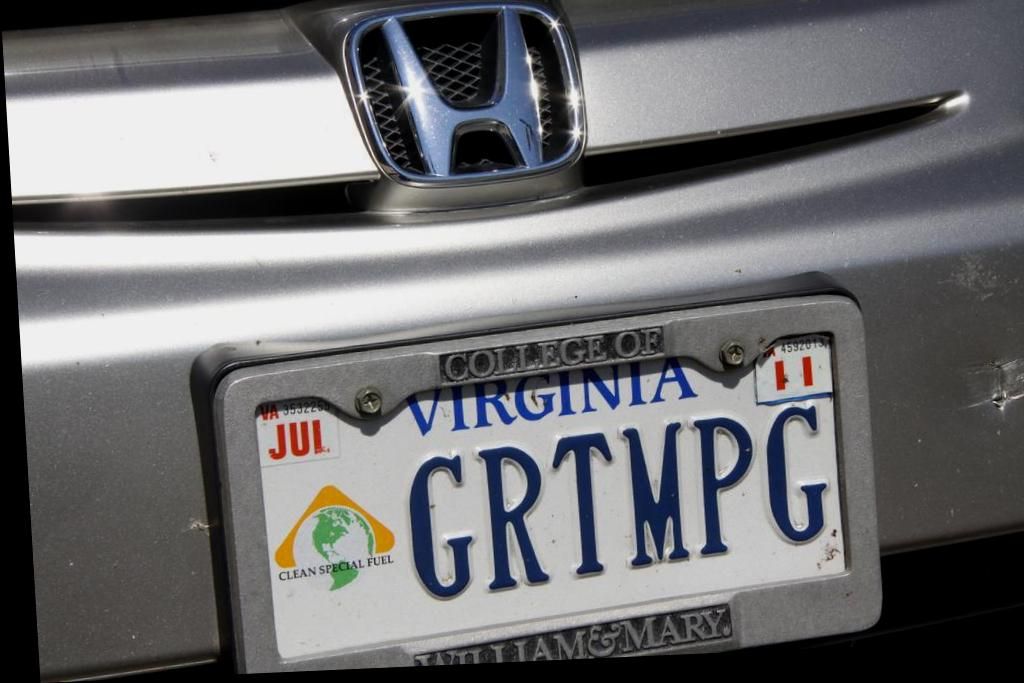License_Plate: (219, 328, 873, 674)
